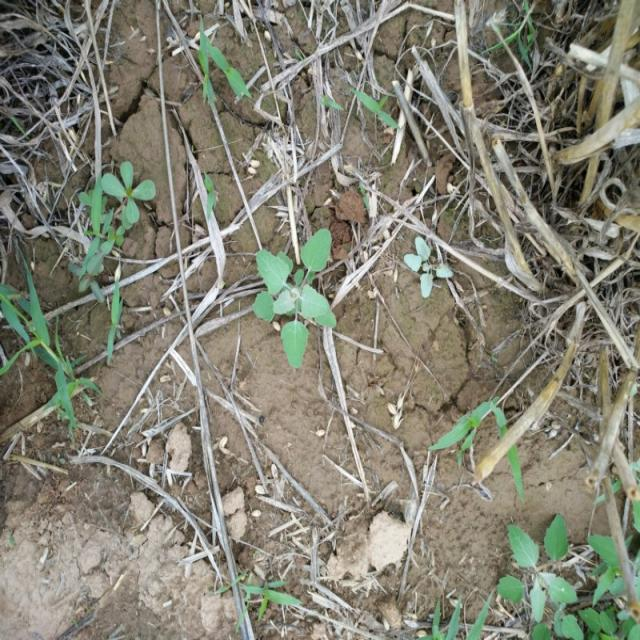goosefoots: (232, 217, 354, 355)
